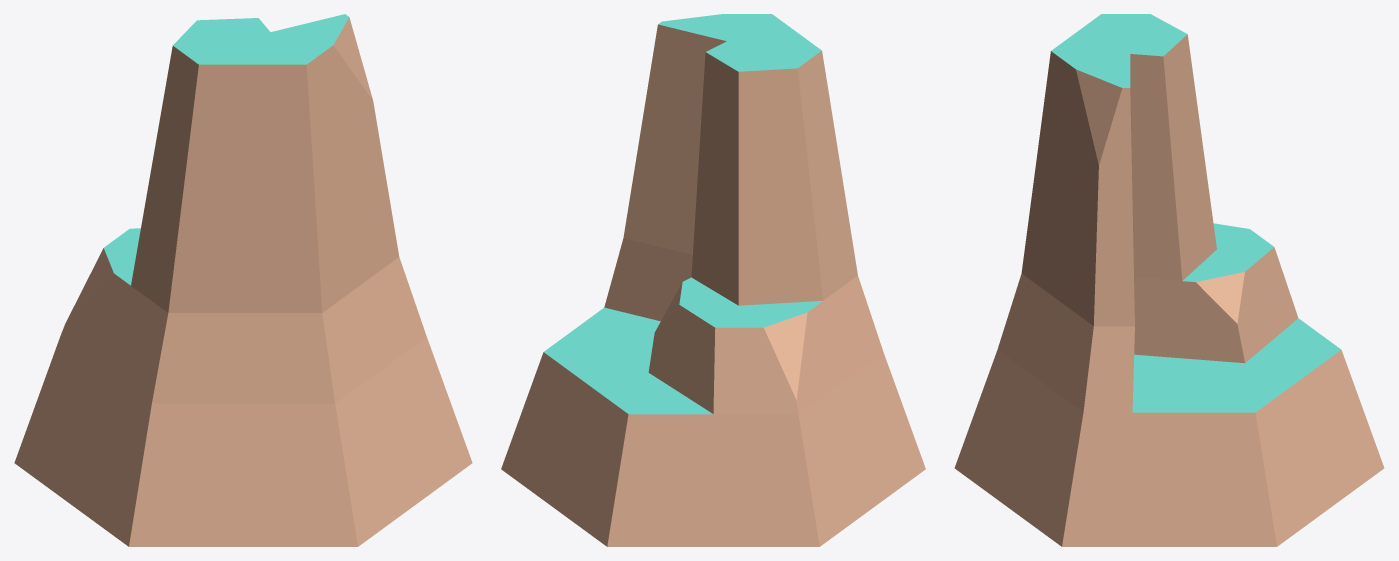
File: rock_tallH.glb
The picture shows the model from 3 angles, left to right: view 1: azimuth 30°, elevation 25°; view 2: azimuth 150°, elevation 25°; view 3: azimuth 270°, elevation 25°; orthographic projection. The views are drawn at different scales.
Visible parts, largest first — view 1: rock_tallH; view 2: rock_tallH; view 3: rock_tallH.
Boxes of the visible parts, left/top/right/bottom form: rock_tallH: left=14, top=14, right=472, bottom=546; rock_tallH: left=501, top=14, right=925, bottom=546; rock_tallH: left=954, top=14, right=1384, bottom=546.
Bounding box in the file's own units: 0.5749 × 0.7108 × 0.6639.
1 material, 1 textured.
